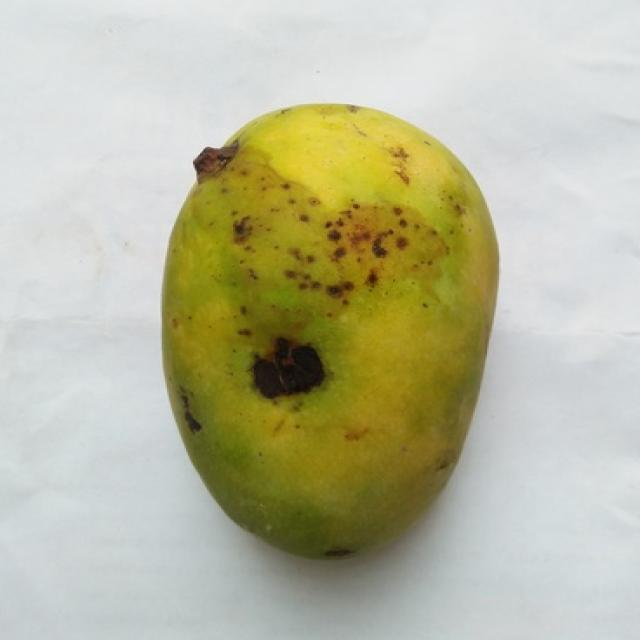Mango: (162, 104, 497, 556)
